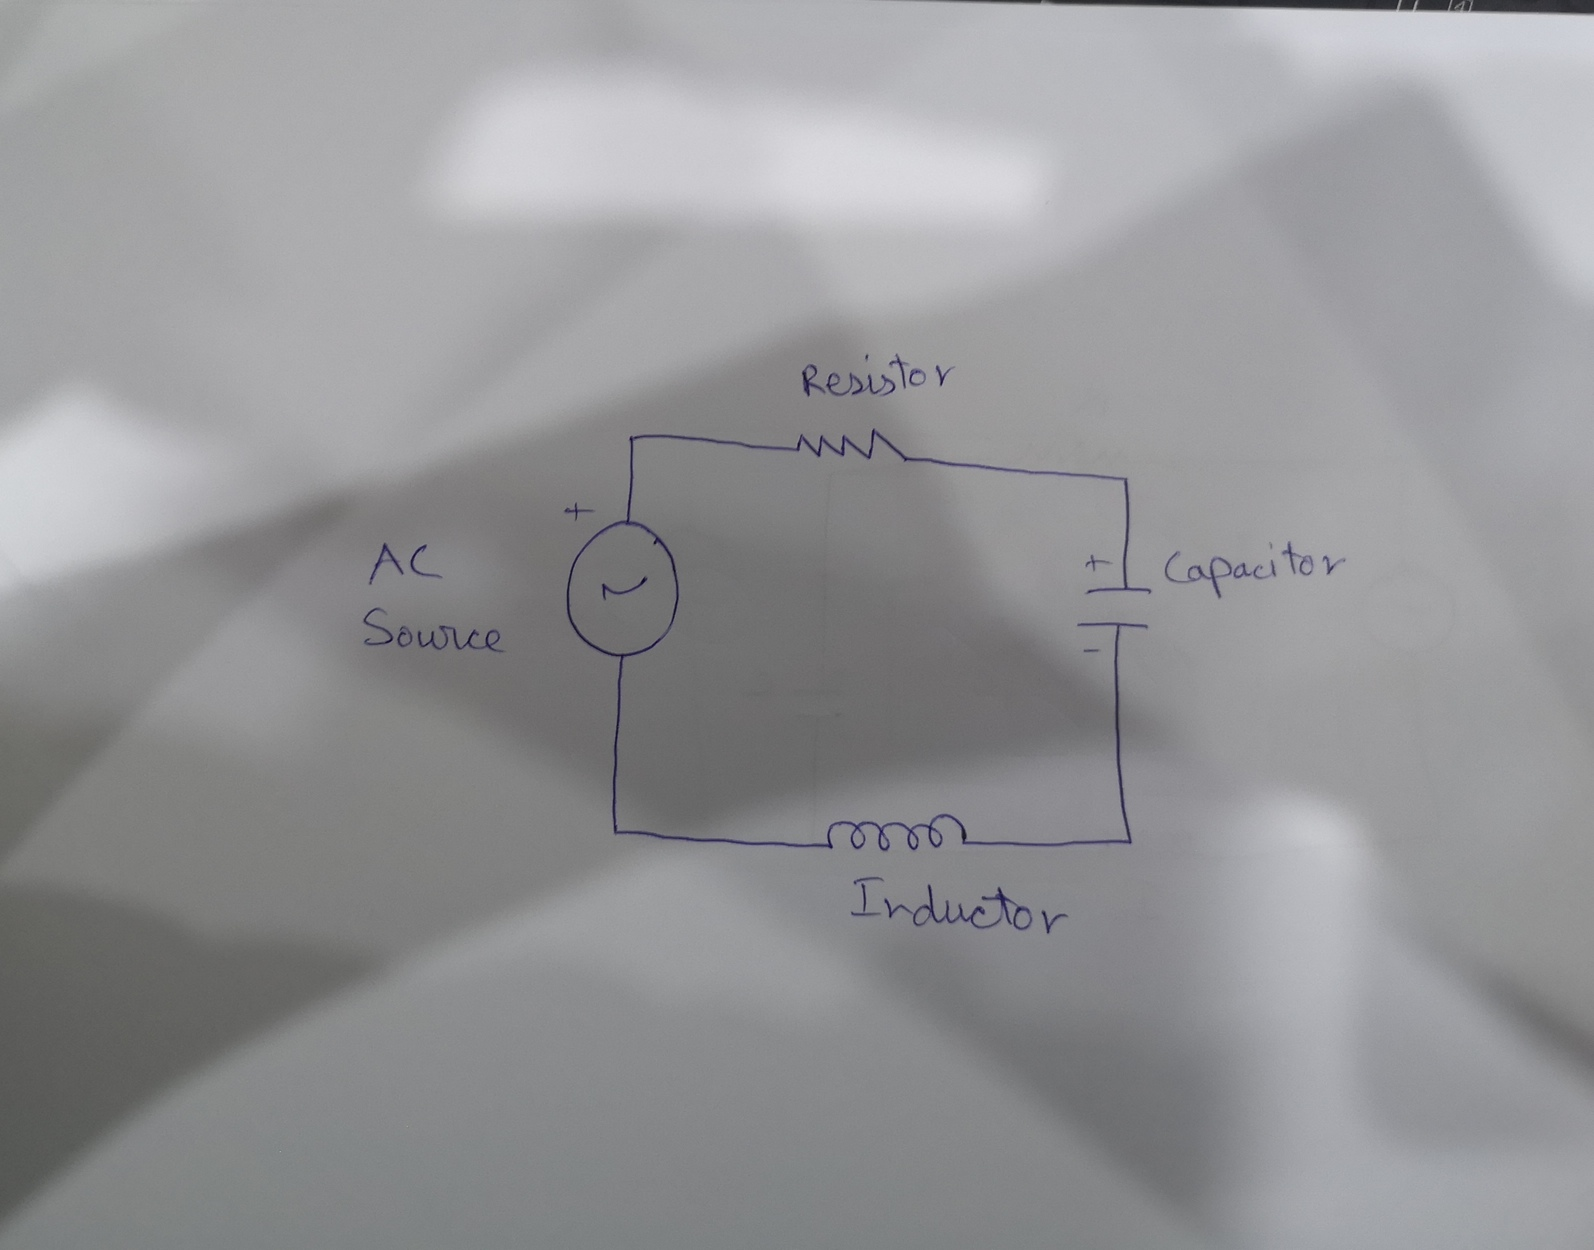capacitor.polarized: (1067, 550, 1159, 660)
inductor: (823, 805, 970, 858)
junction: (602, 811, 637, 848), (1111, 468, 1137, 494), (621, 427, 646, 452), (1117, 829, 1140, 851)
resistor: (791, 422, 910, 467)
text: (842, 873, 1073, 938), (797, 348, 957, 402), (360, 603, 508, 659), (1159, 545, 1340, 590), (364, 536, 446, 587)
voltage.dc: (559, 496, 690, 672)
